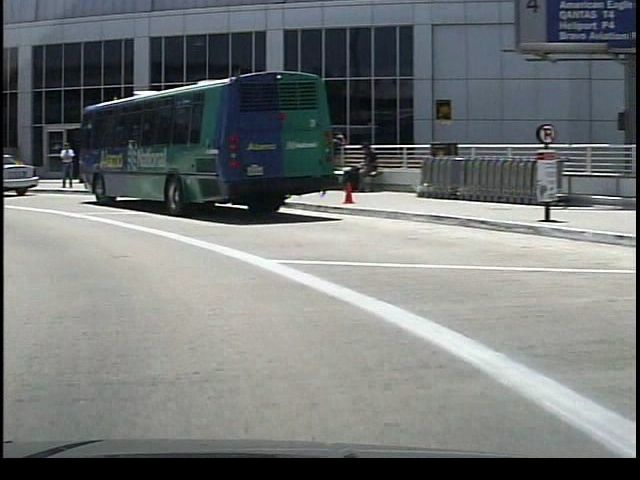person: (344, 140, 376, 198), (53, 141, 73, 192)
